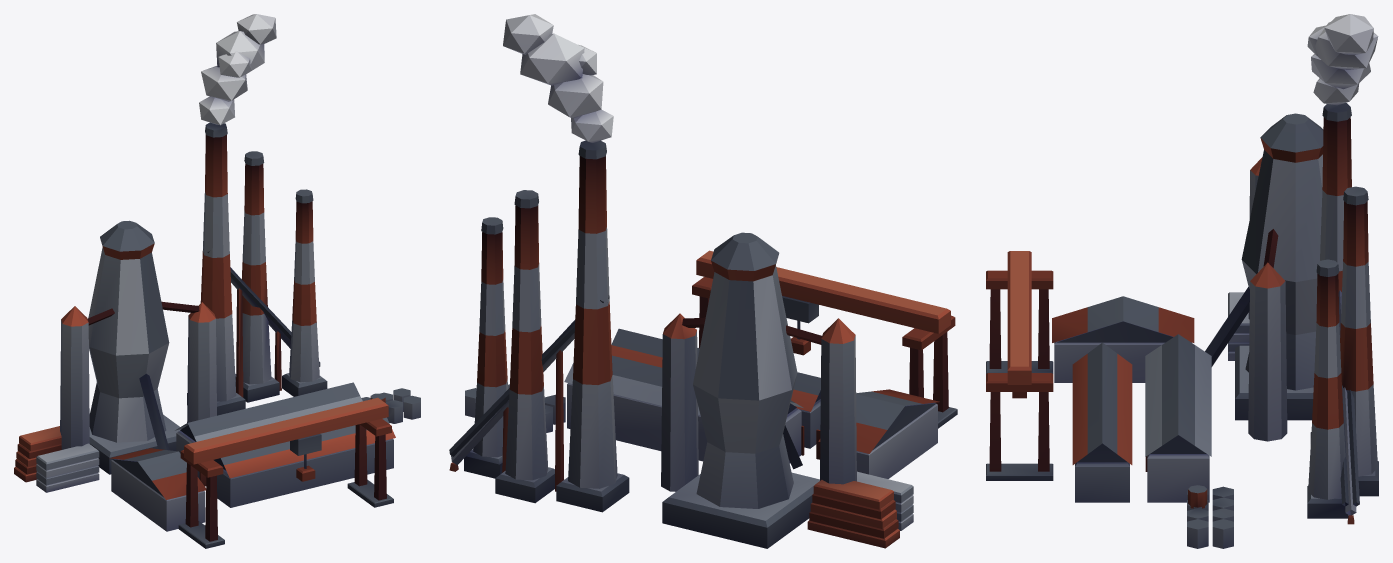
File: sidor_puerto_ordaz.glb
3 renders of one model, left to right at view 1: azimuth 30°, elevation 25°; view 2: azimuth 150°, elevation 25°; view 3: azimuth 270°, elevation 25°, orthographic. The views are drawn at different scales.
Visible parts, largest first — view 1: alto_horno, chimeneas, naves, grua, humo, planchones, cinta, bobinas; view 2: alto_horno, chimeneas, naves, grua, humo, planchones, cinta, bobinas; view 3: naves, alto_horno, chimeneas, grua, humo, bobinas, cinta, planchones.
Part boxes in pixels (x1=…): alto_horno: x1=60, y1=220, x2=216, y2=474; chimeneas: x1=187, y1=122, x2=327, y2=415; naves: x1=109, y1=382, x2=395, y2=531; grua: x1=178, y1=397, x2=393, y2=548; humo: x1=199, y1=14, x2=276, y2=125; planchones: x1=14, y1=426, x2=99, y2=492; cinta: x1=203, y1=245, x2=320, y2=397; bobinas: x1=361, y1=388, x2=420, y2=423; alto_horno: x1=661, y1=232, x2=856, y2=548; chimeneas: x1=464, y1=140, x2=629, y2=512; naves: x1=564, y1=328, x2=939, y2=478; grua: x1=692, y1=250, x2=957, y2=428; humo: x1=503, y1=14, x2=613, y2=142; planchones: x1=807, y1=471, x2=913, y2=548; cinta: x1=449, y1=295, x2=609, y2=491; bobinas: x1=465, y1=384, x2=565, y2=432; naves: x1=1052, y1=296, x2=1211, y2=502; alto_horno: x1=1205, y1=113, x2=1323, y2=441; chimeneas: x1=1307, y1=103, x2=1378, y2=518; grua: x1=986, y1=251, x2=1053, y2=480; humo: x1=1307, y1=14, x2=1378, y2=105; bobinas: x1=1187, y1=485, x2=1233, y2=548; cinta: x1=1338, y1=290, x2=1359, y2=524; planchones: x1=1228, y1=292, x2=1249, y2=360.
Size of the model in its own units: 56.54 by 55.87 by 42.11.
